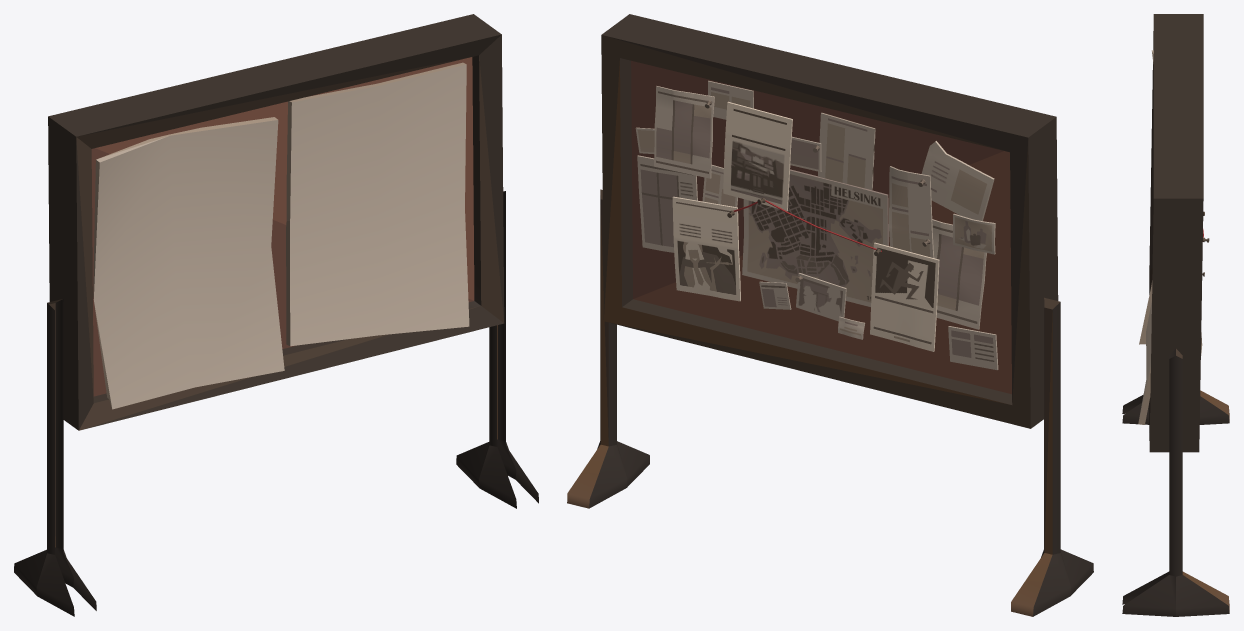
The model's file is pin_board_separates.fbx.
The picture shows the model from 3 angles, left to right: view 1: azimuth 30°, elevation 25°; view 2: azimuth 150°, elevation 25°; view 3: azimuth 270°, elevation 25°; orthographic projection. The views are drawn at different scales.
Parts seen in each view (by area): view 1: pinboard, pinboard_legs; view 2: pinboard, pinboard_legs, valikko_poistu, valikko_tekijat, valikko_aloita; view 3: pinboard, pinboard_legs.
Part boxes in pixels (<box>): pinboard: <box>48,14,504,430</box>; pinboard_legs: <box>14,191,538,616</box>; pinboard: <box>601,14,1058,428</box>; pinboard_legs: <box>567,189,1093,616</box>; valikko_poistu: <box>870,242,939,351</box>; valikko_tekijat: <box>672,196,740,301</box>; valikko_aloita: <box>723,101,792,211</box>; pinboard: <box>1138,14,1209,452</box>; pinboard_legs: <box>1122,349,1229,616</box>.
Bounding box in the file's own units: 203 × 187 × 44.46.
